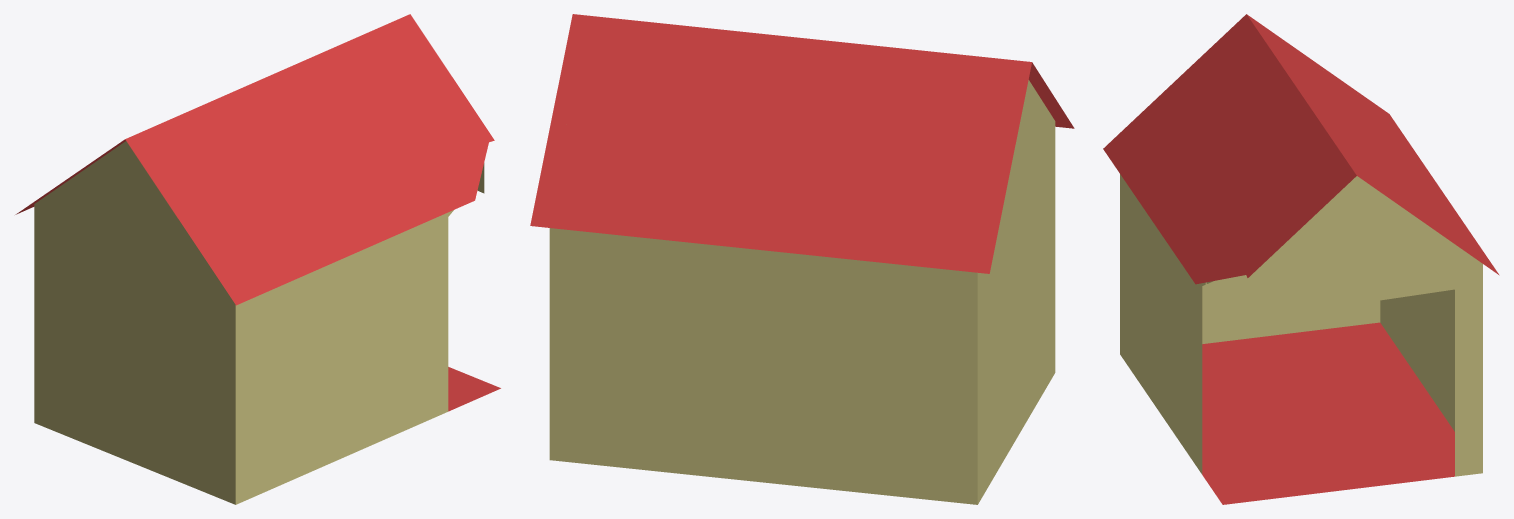
3 renders of one model, left to right at view 1: azimuth 30°, elevation 25°; view 2: azimuth 150°, elevation 25°; view 3: azimuth 270°, elevation 25°, orthographic. The views are drawn at different scales.
Bounding box in the file's own units: 16.73 × 14.57 × 12.91.
